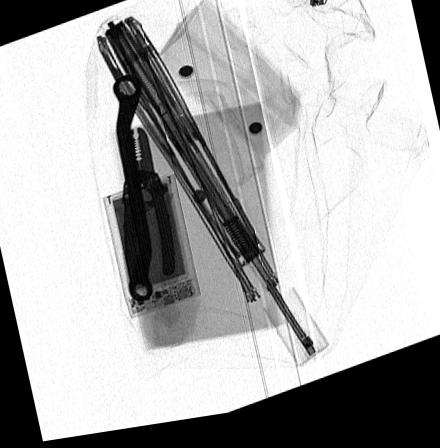Pliers: (119, 133, 174, 291)
Powerbank: (103, 178, 199, 321)
Wrench: (109, 76, 153, 307)
